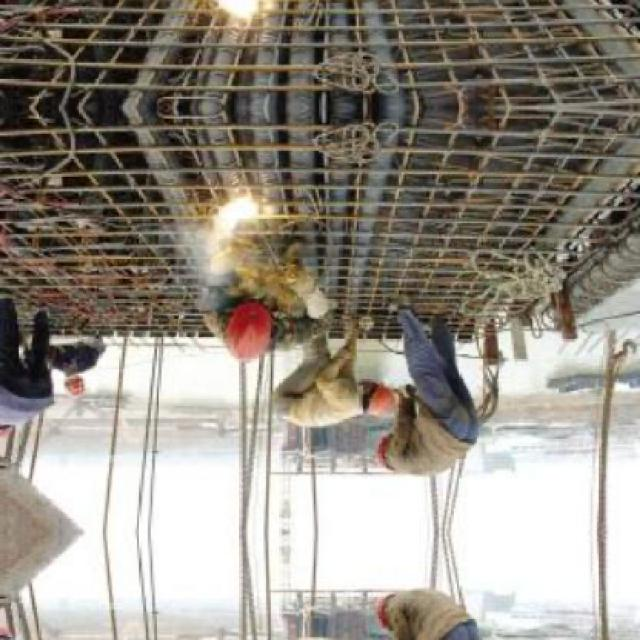con casco: (218, 290, 308, 362), (350, 353, 409, 424), (371, 433, 432, 493), (46, 367, 95, 401)
